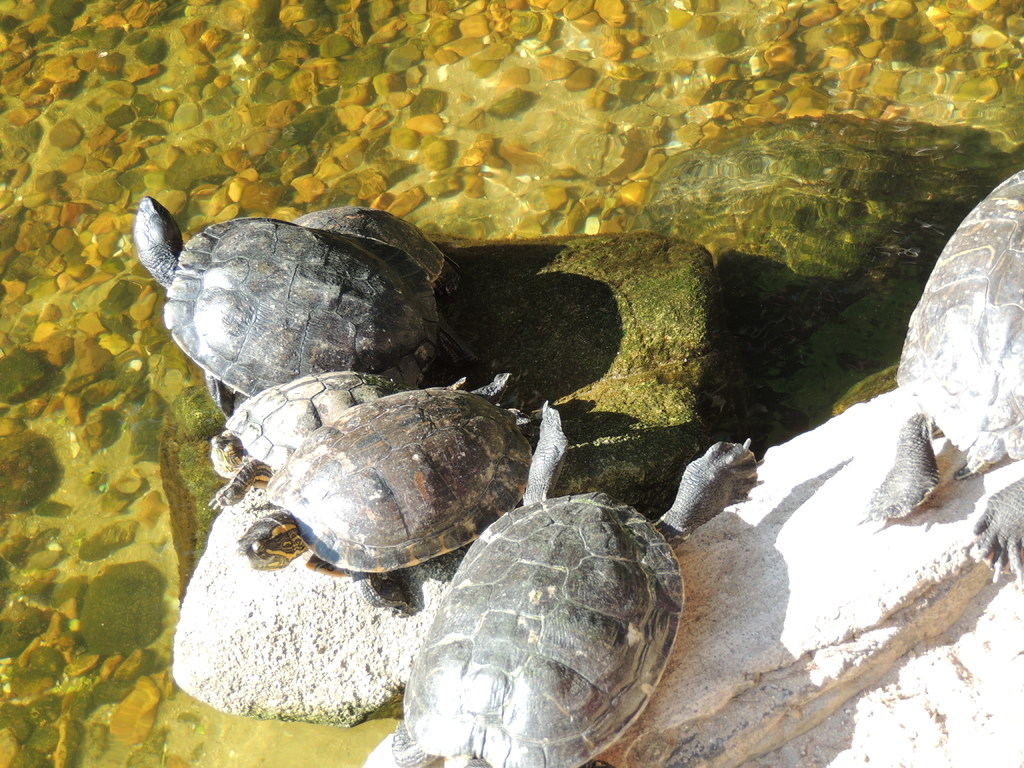Sea turtles: (380, 397, 770, 767), (229, 377, 535, 622), (848, 169, 1023, 597), (134, 197, 434, 406), (201, 365, 400, 521)
